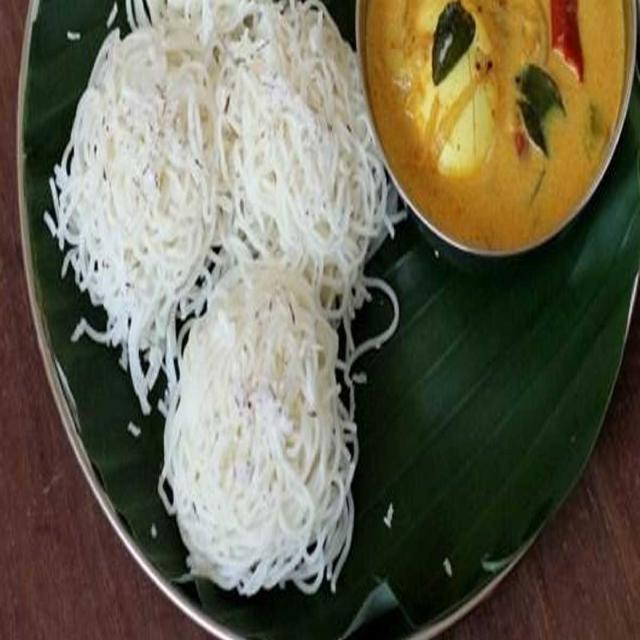IDIYAPPAM: (159, 252, 356, 597), (44, 23, 220, 398), (222, 3, 402, 313)
KURMA: (366, 0, 627, 252)
